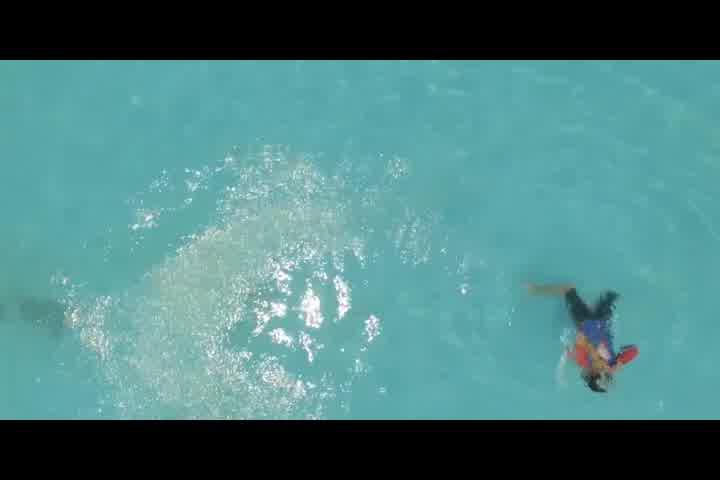human: (526, 272, 640, 393)
